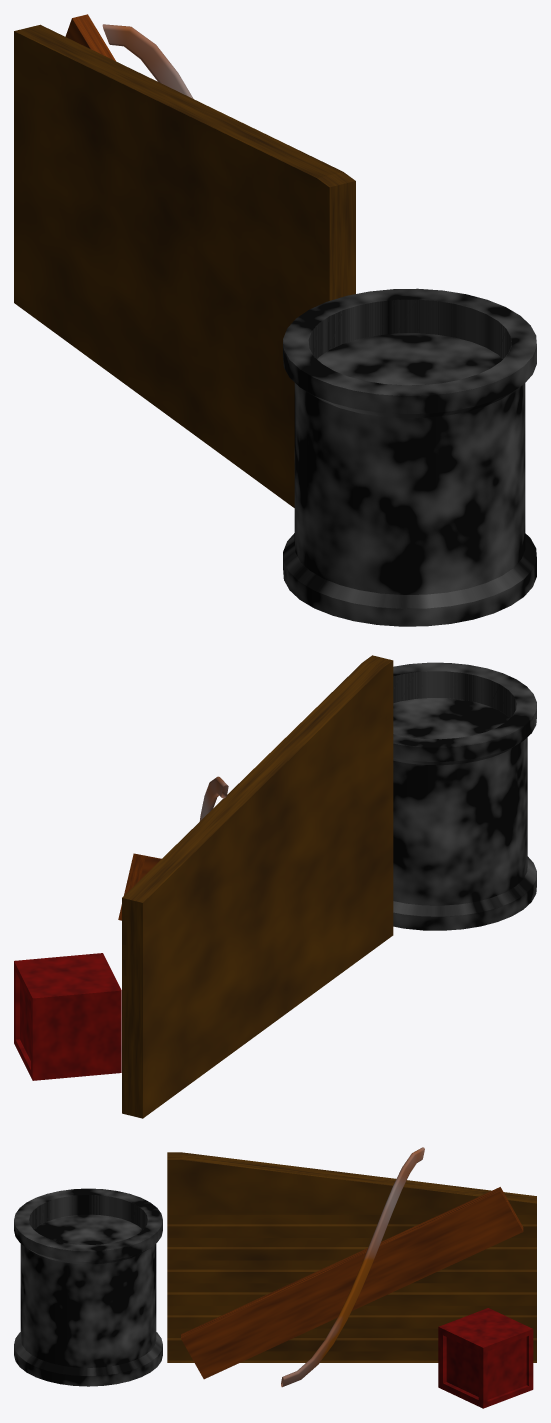
The model's file is makeShiftBarrier.fbx.
The picture shows the model from 3 angles, top to bottom: view 1: azimuth 30°, elevation 25°; view 2: azimuth 150°, elevation 25°; view 3: azimuth 270°, elevation 25°; orthographic projection. The views are drawn at different scales.
Parts seen in each view (by area): view 1: barrier, barrel, wirePipe, woodenFrame; view 2: barrier, barrel, crate, woodenFrame, wirePipe; view 3: barrier, barrel, woodenFrame, crate, wirePipe.
Boxes of the visible parts, x1,y1,x2,y2 form: barrier: (14, 24, 355, 507); barrel: (283, 288, 536, 626); wirePipe: (102, 24, 193, 98); woodenFrame: (65, 14, 115, 61); barrier: (122, 655, 393, 1118); barrel: (393, 662, 536, 930); crate: (14, 953, 121, 1080); woodenFrame: (118, 853, 161, 920); wirePipe: (199, 776, 228, 821); barrier: (167, 1152, 536, 1362); barrel: (14, 1188, 162, 1386); woodenFrame: (181, 1187, 523, 1379); crate: (438, 1308, 533, 1408); wirePipe: (281, 1147, 424, 1387).
Size of the model in its own units: 277 by 322 by 702.
